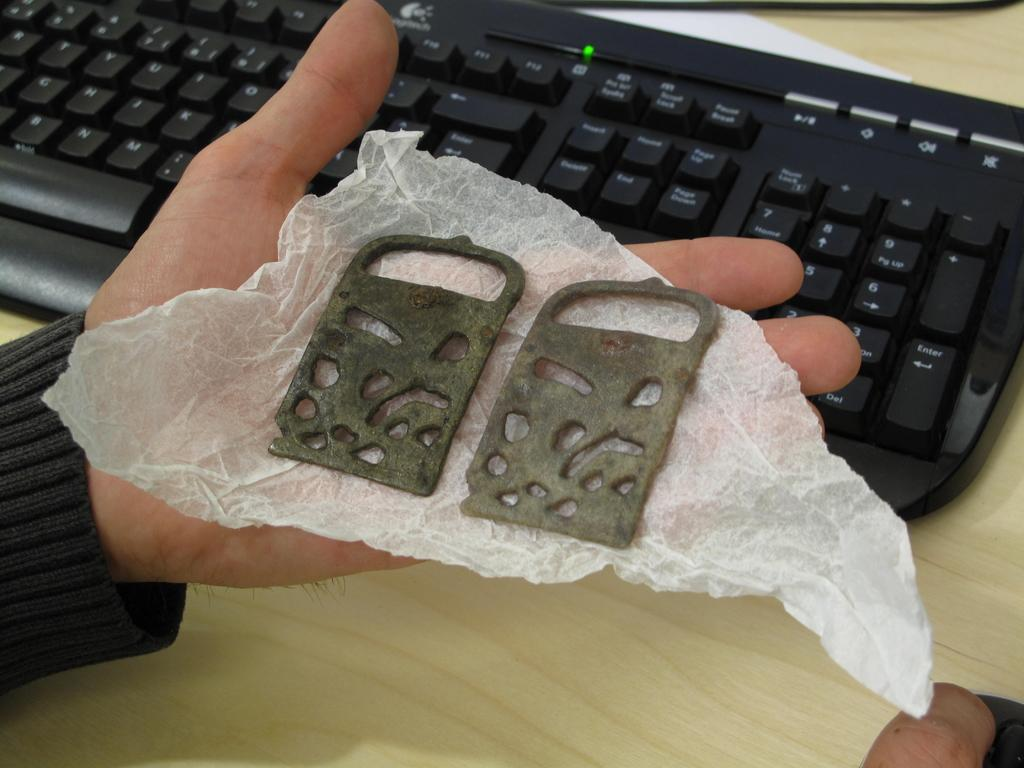Computer-keyboard: (0, 0, 1023, 524)
